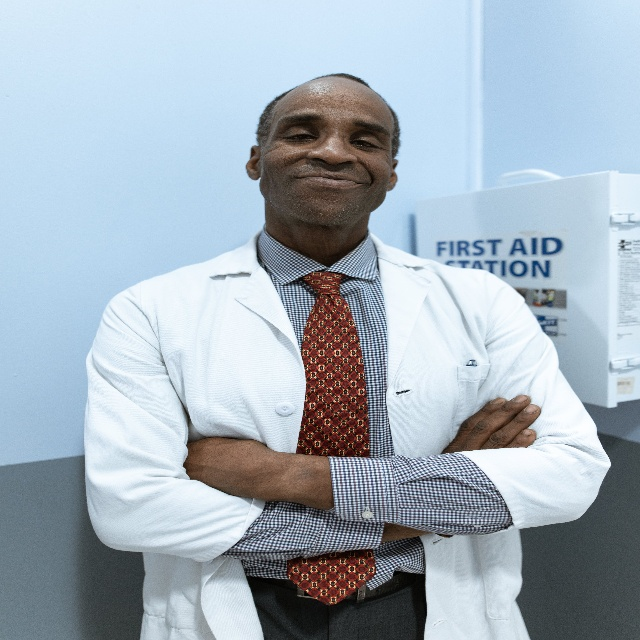Sin_guantes: (180, 425, 268, 504), (439, 390, 542, 455)
